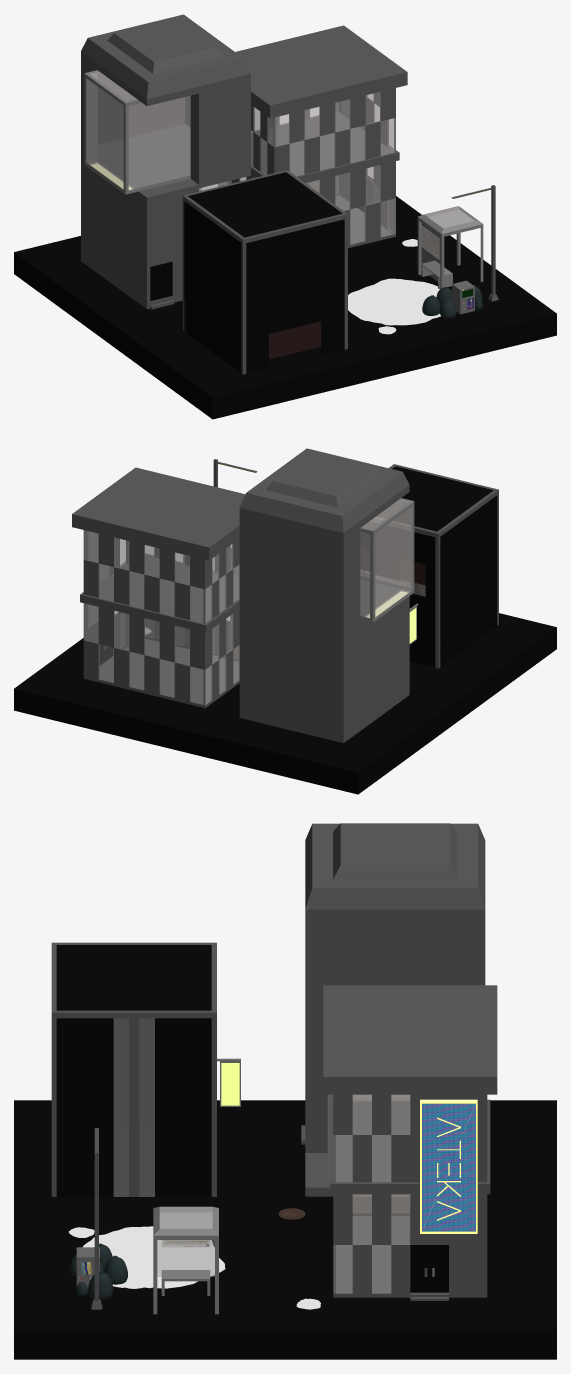
The model's file is diorama1.gltf.
3 views of the same model, one above another, from view 1: azimuth 30°, elevation 25°; view 2: azimuth 150°, elevation 25°; view 3: azimuth 270°, elevation 25° (orthographic). The views are drawn at different scales.
Parts seen in each view (by area): view 1: Window-frame.001, Building.001, Building, Ground, Sidewalk.001, Windows, Windows1, Building-frame, Pond, Cube, Garage, Cube.003 (+4 smaller); view 2: Window-frame.001, Building, Ground, Building.001, Sidewalk.001, Windows1, Windows, Building-frame, Curtains; view 3: Sidewalk.001, Building, Ground, Building.001, Window-frame.001, Windows1, Building-frame, Screen, Windows.001, Pond, Cube, Door.002 (+6 smaller).
Part boxes in pixels (<box>): Window-frame.001: <box>81,14,250,309</box>; Building.001: <box>184,172,344,373</box>; Building: <box>218,25,407,248</box>; Ground: <box>14,176,556,419</box>; Sidewalk.001: <box>42,188,528,385</box>; Windows: <box>86,71,226,191</box>; Windows1: <box>230,92,393,244</box>; Building-frame: <box>182,170,347,374</box>; Pond: <box>348,278,440,325</box>; Cube: <box>417,206,483,288</box>; Garage: <box>268,321,321,358</box>; Cube.003: <box>419,221,440,282</box>; Window-frame.001: <box>239,448,414,743</box>; Building: <box>72,467,245,708</box>; Ground: <box>14,548,556,794</box>; Building.001: <box>360,466,497,667</box>; Sidewalk.001: <box>42,558,528,760</box>; Windows1: <box>83,530,239,704</box>; Windows: <box>360,499,412,617</box>; Building-frame: <box>370,464,498,668</box>; Curtains: <box>360,549,425,585</box>; Sidewalk.001: <box>42,1112,528,1317</box>; Building: <box>323,985,497,1300</box>; Ground: <box>14,1100,556,1359</box>; Building.001: <box>56,945,211,1196</box>; Window-frame.001: <box>301,823,485,1196</box>; Windows1: <box>336,1094,410,1293</box>; Building-frame: <box>51,942,216,1196</box>; Screen: <box>422,1103,475,1231</box>; Windows.001: <box>113,1018,154,1196</box>; Pond: <box>83,1226,225,1288</box>; Cube: <box>153,1206,218,1314</box>; Door.002: <box>410,1245,448,1292</box>.
Size of the model in its own units: 16.53 by 11.68 by 16.53.
28 materials, 6 textured.
